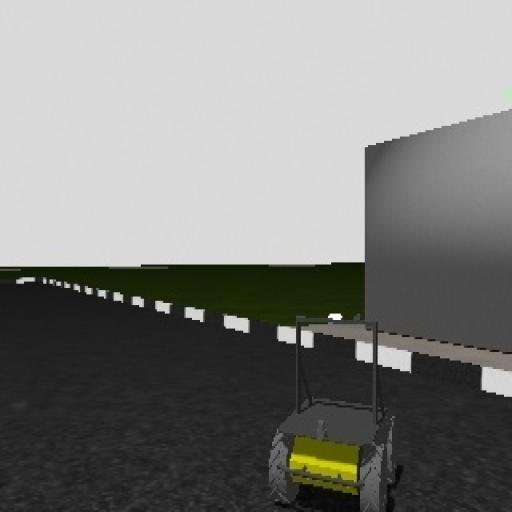huskya200: (242, 297, 412, 512)
